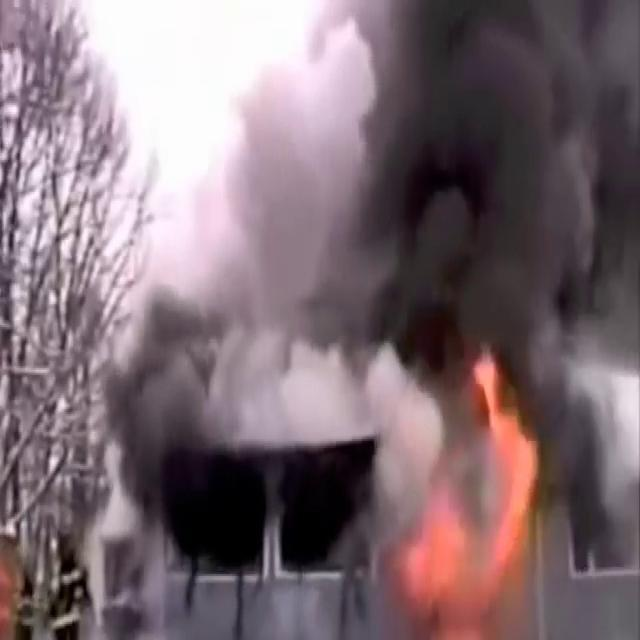Fire: (399, 372, 543, 636)
Smoke: (82, 0, 640, 491)
